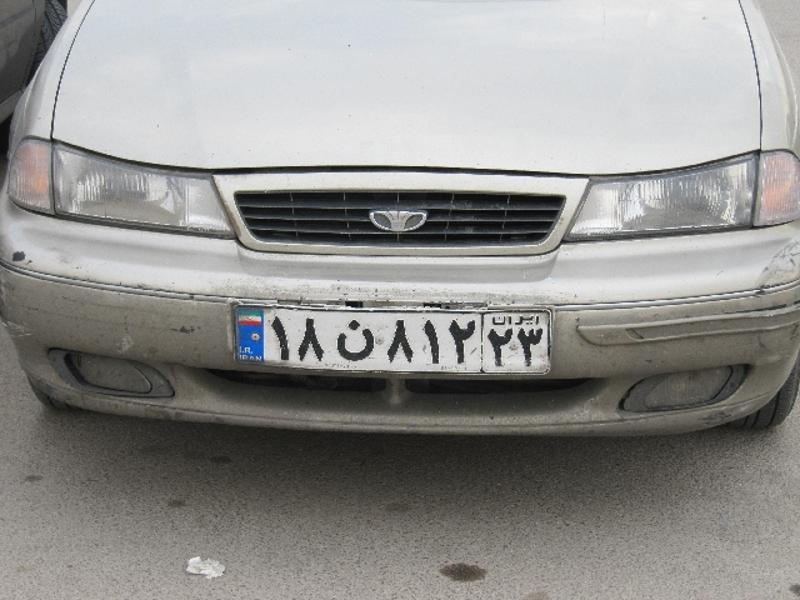Plate: (226, 303, 565, 381)
